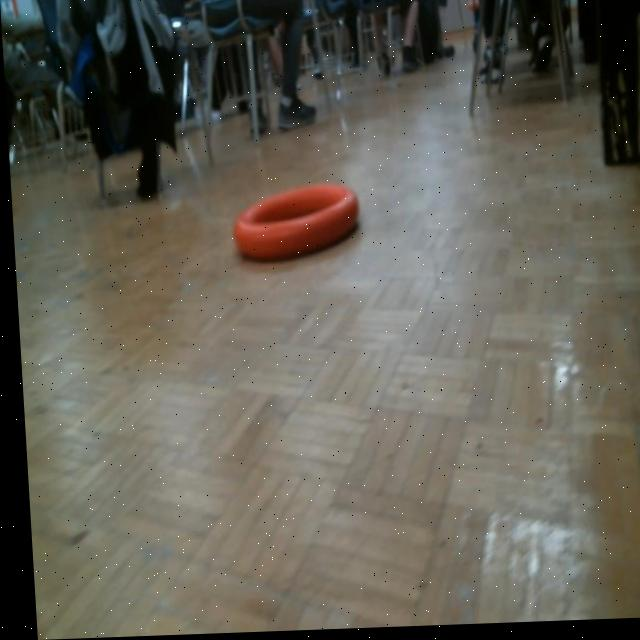note: (228, 183, 360, 271)
